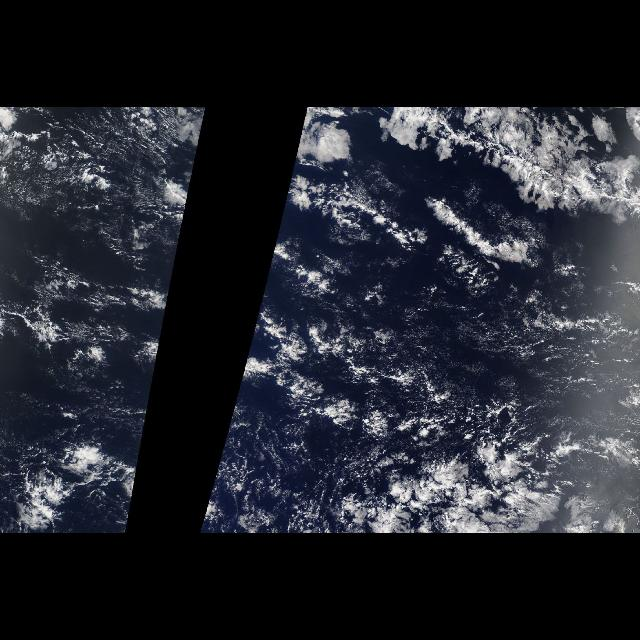Fish: (331, 111, 635, 267)
Gravel: (302, 170, 572, 448)
Sugar: (6, 112, 206, 518), (314, 276, 634, 456), (201, 127, 301, 518)
